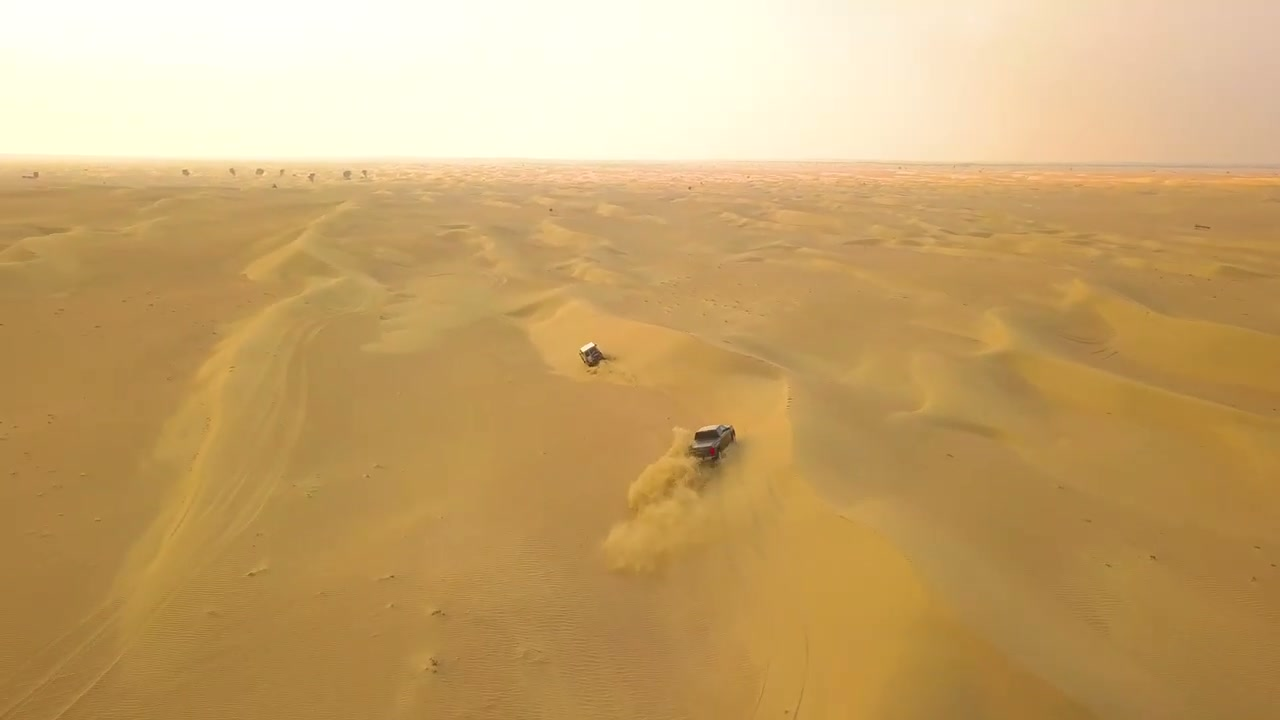vehicle_track: (6, 316, 333, 719)
